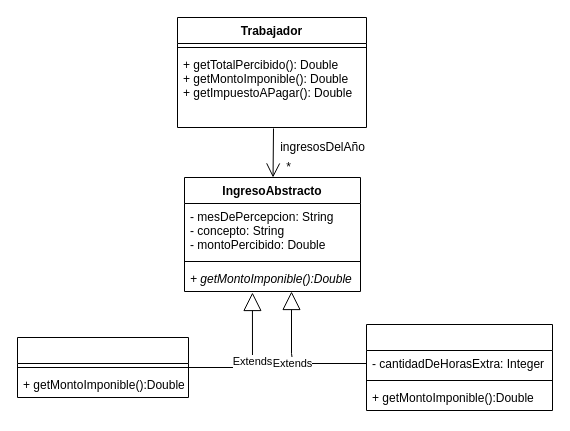
The diagram is 570 pixels wide and 431 high, and some of its shapes have lost their labels. The shapes that lost their labels are listed below. From the top down, each one's box as (x1, y1, x2, y2) in pixels, then its label:
(16, 336, 188, 398): Ingreso
(366, 324, 552, 410): IngresoPorHorasExtra
